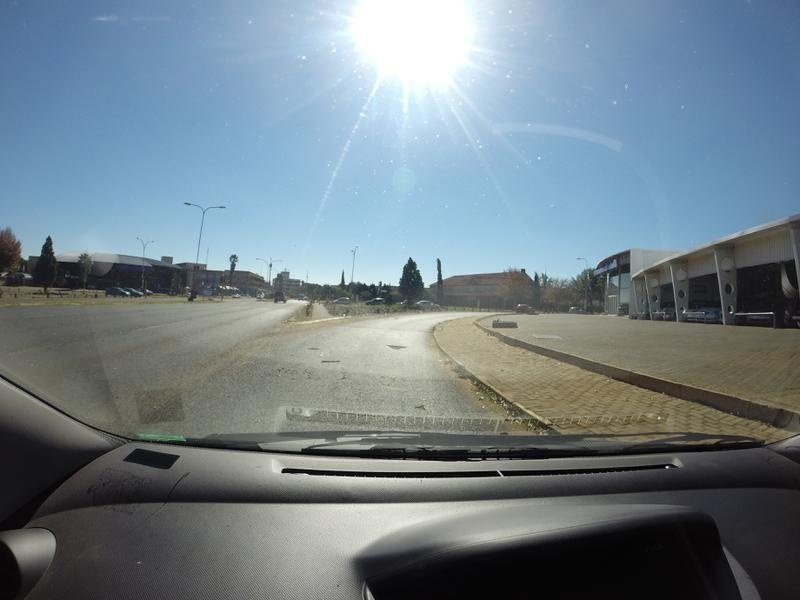pothole: (314, 355, 343, 365), (404, 400, 430, 411), (383, 341, 407, 352)
